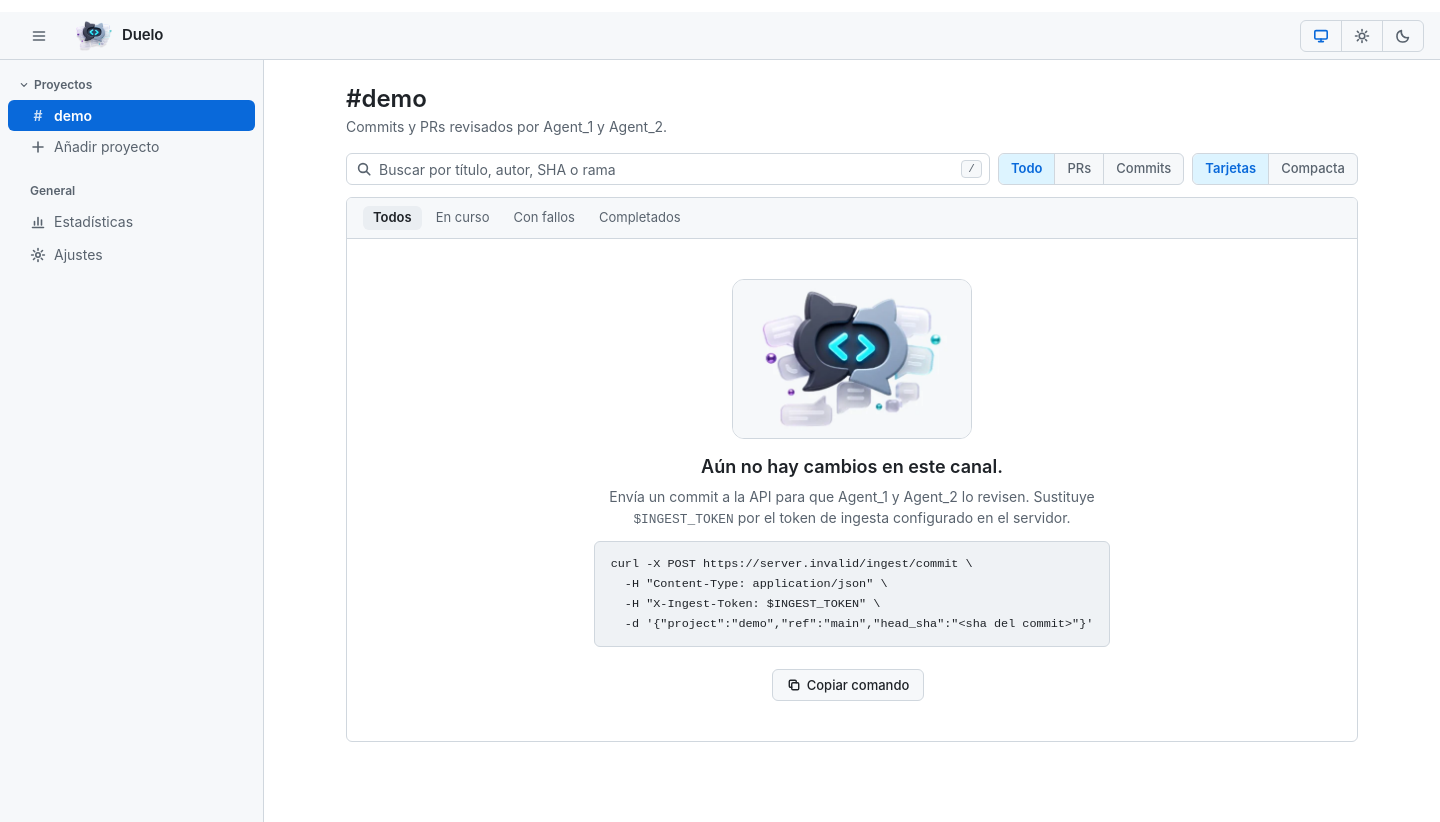
Scenario: app frame › collapses and expands the project channels
This screenshot has width=1440, height=822.
Expected: the heading "#demo" is shown, [346,84,427,113]
Click the button "Proyectos". click: {"x": 132, "y": 85}
box: [8,72,255,98]
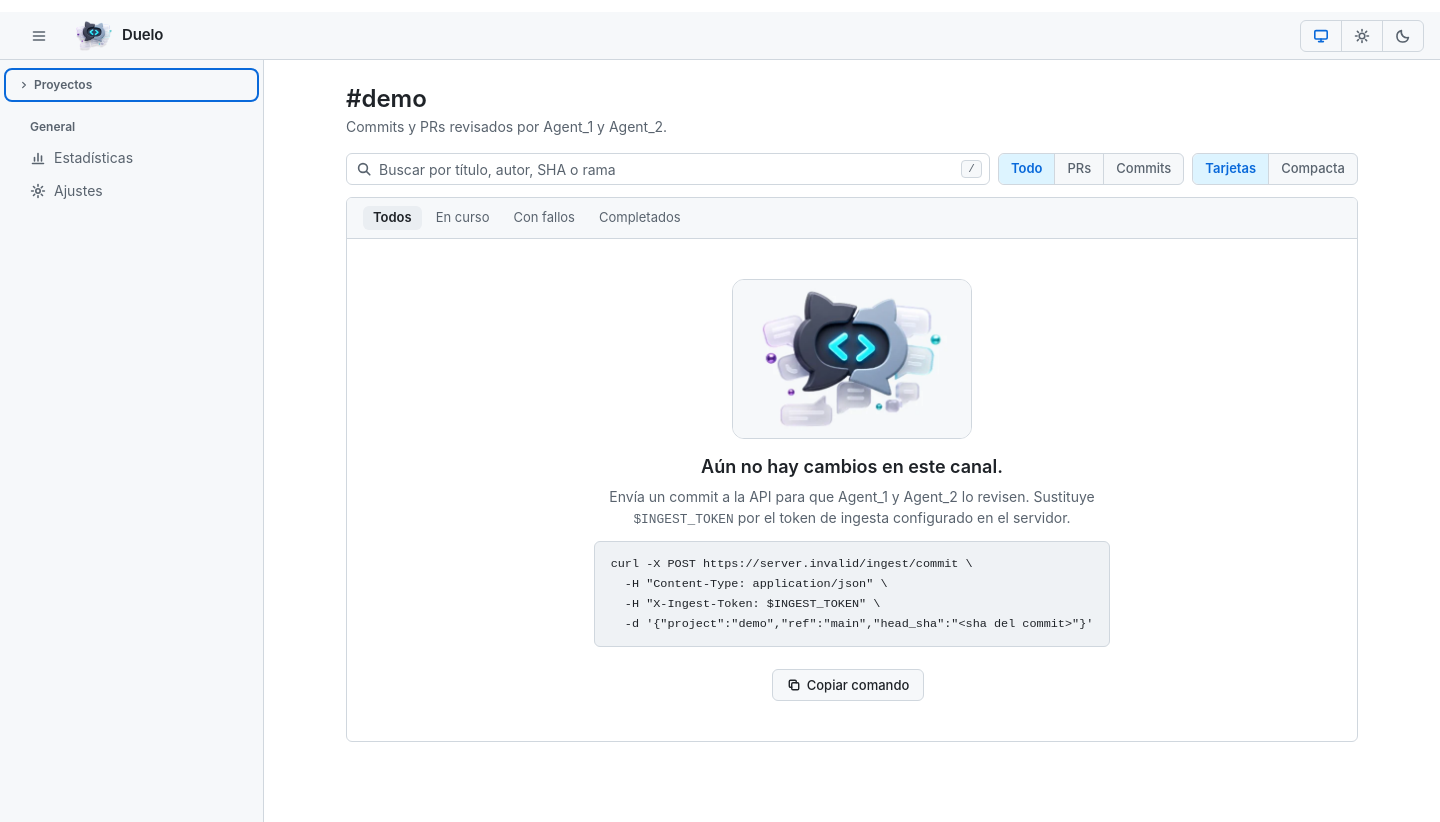
Expected: the button "Proyectos" is collapsed
Click the button "Proyectos". click: {"x": 132, "y": 85}
box: [8,72,255,98]
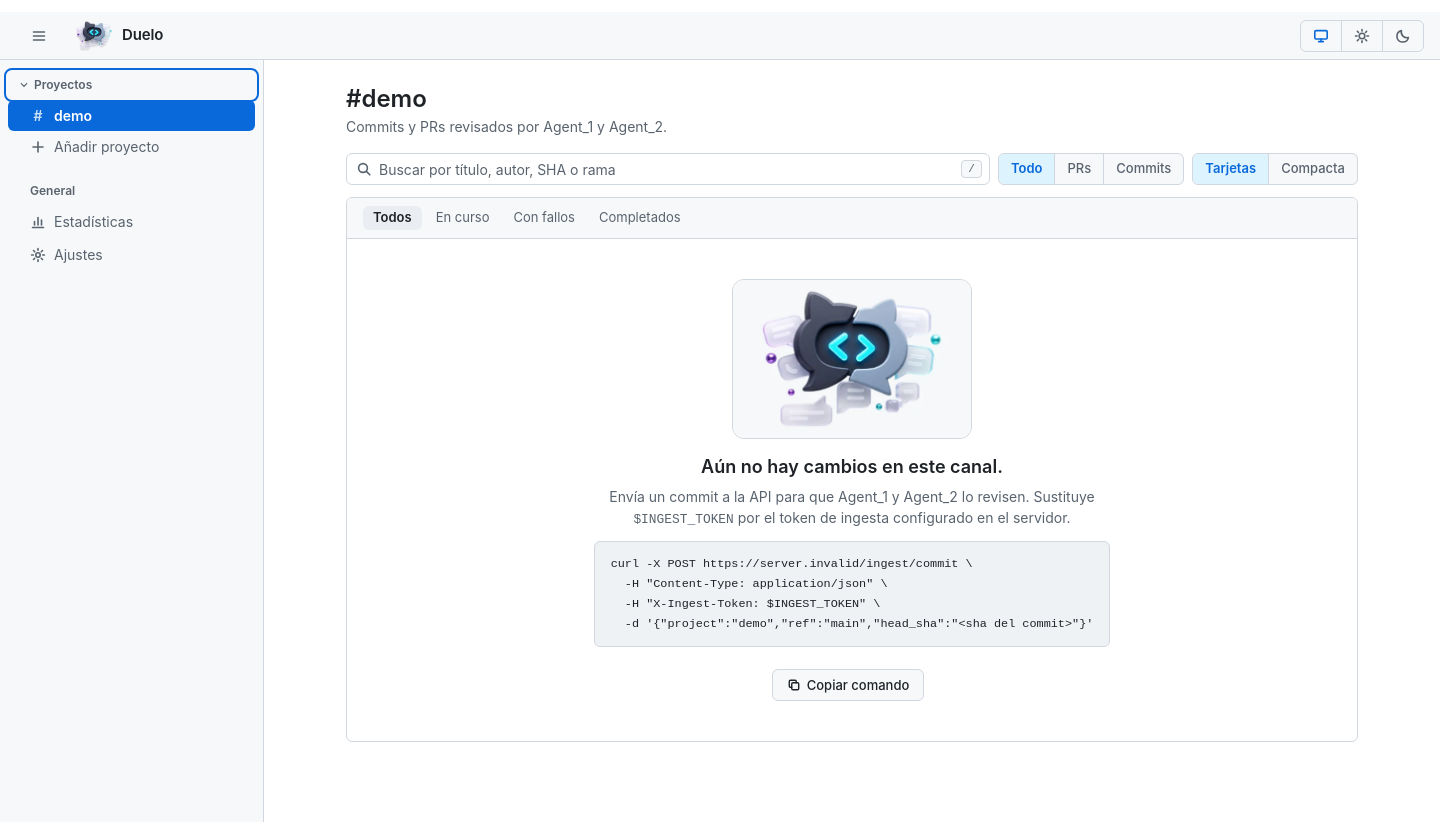
Expected: the link "# demo" is shown, [8,100,255,131]
